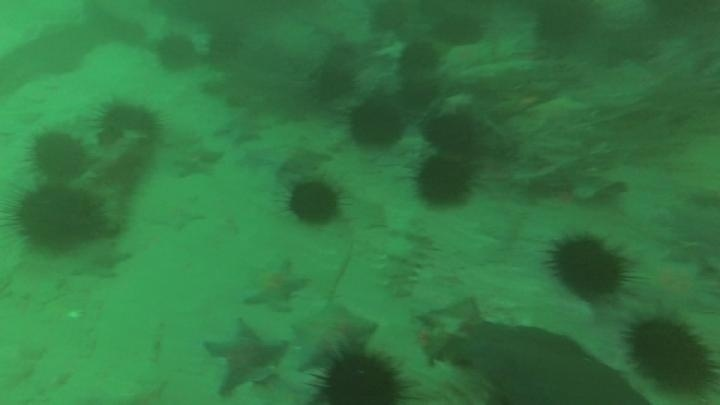echinus: (624, 317, 715, 396), (11, 184, 105, 252), (546, 234, 632, 302), (313, 350, 408, 404), (92, 97, 162, 148), (413, 153, 476, 208), (27, 129, 89, 182), (347, 97, 406, 150), (284, 177, 344, 228), (532, 1, 598, 46), (424, 111, 479, 155), (433, 12, 487, 49), (153, 32, 198, 74), (312, 64, 358, 103), (397, 75, 442, 113), (398, 40, 442, 77), (367, 2, 413, 36)
holothurian: (380, 219, 435, 300)
starfish: (202, 318, 289, 397), (289, 300, 378, 373), (243, 115, 337, 174), (639, 256, 715, 316), (240, 258, 310, 312), (214, 107, 269, 148), (148, 196, 207, 234), (170, 140, 224, 181), (534, 92, 589, 131), (84, 242, 134, 278), (442, 41, 492, 74)
